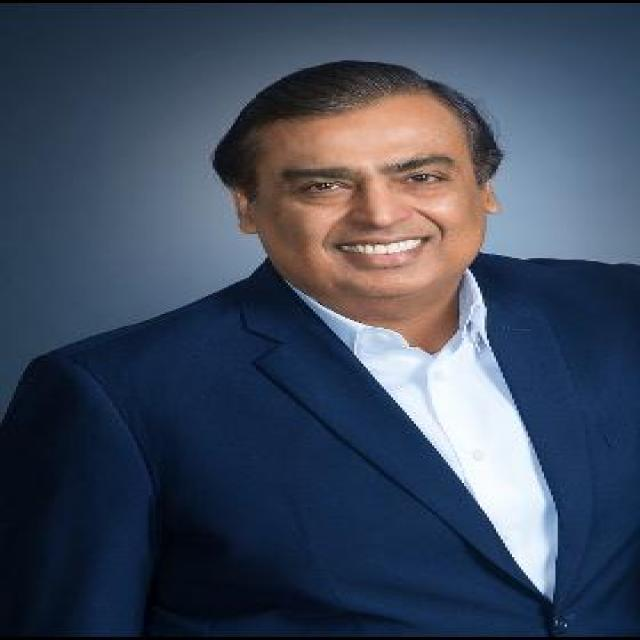mobile_phonerotation: (0, 57, 638, 637)
